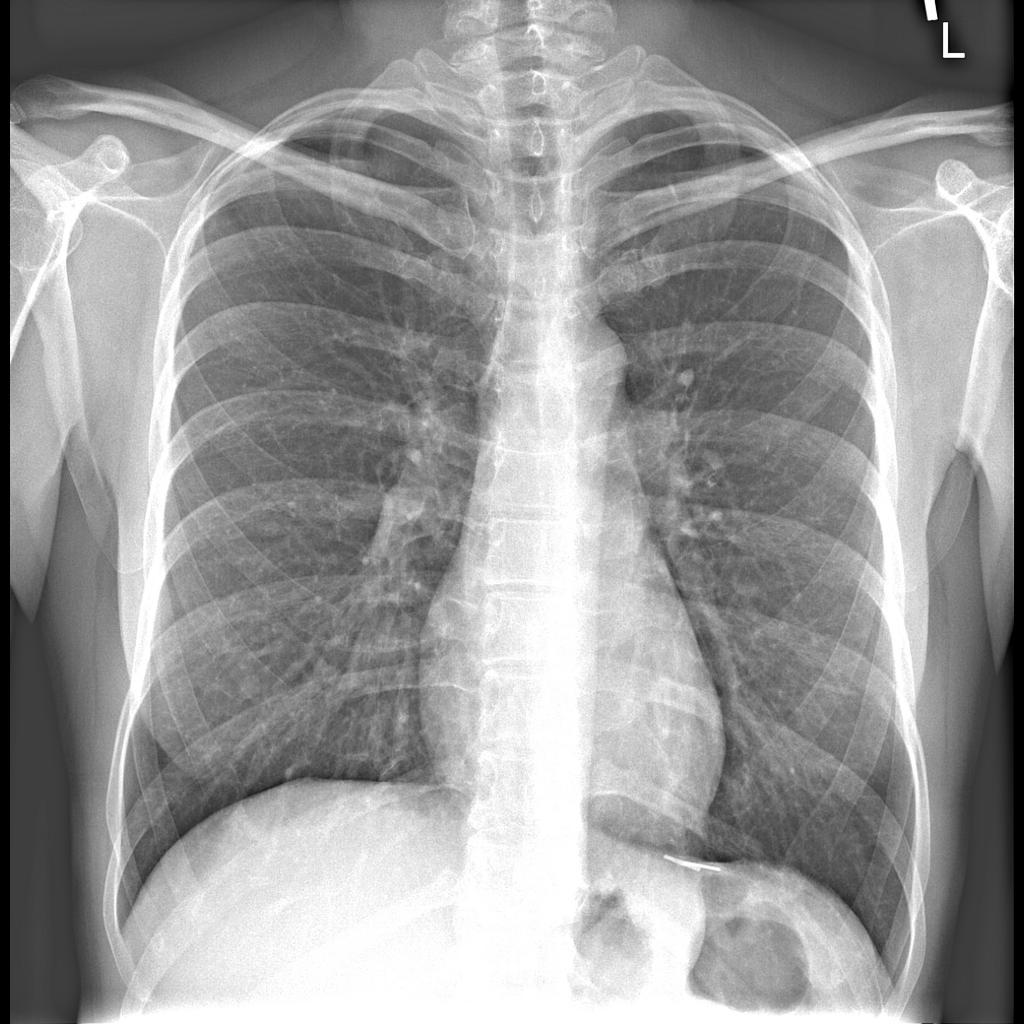Nodule: (235, 669, 269, 708)
